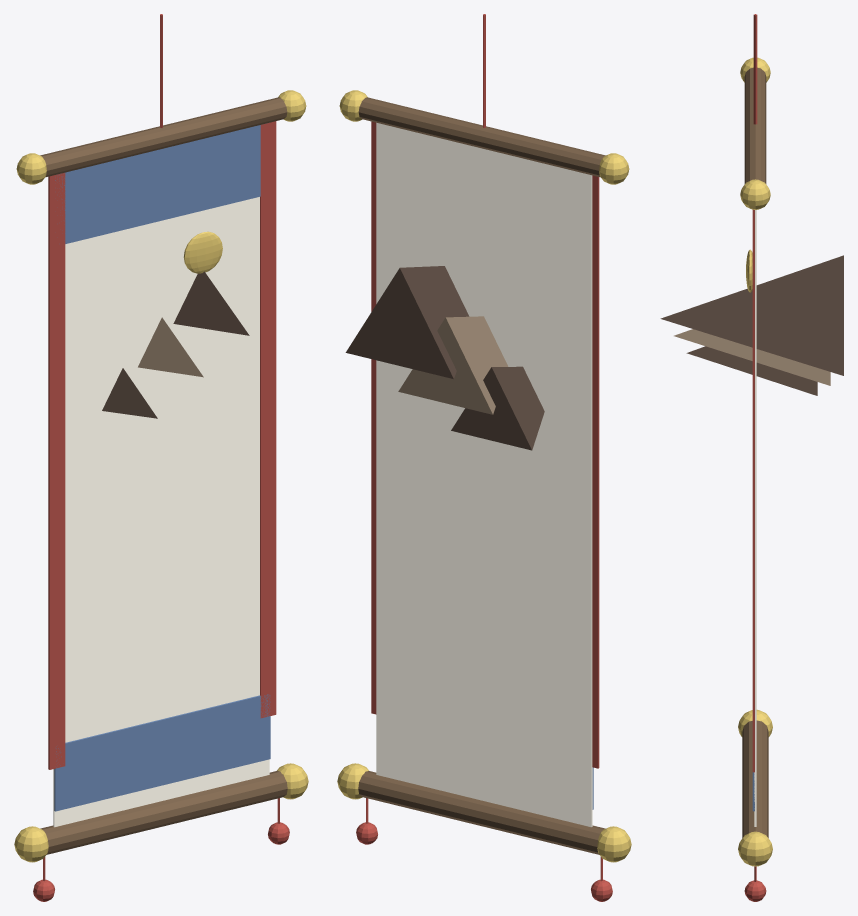
File: scroll_holder.glb
3 views of the same model, side by side, from view 1: azimuth 30°, elevation 25°; view 2: azimuth 150°, elevation 25°; view 3: azimuth 270°, elevation 25° (orthographic). The views are drawn at different scales.
Parts seen in each view (by area): view 1: scroll_holder; view 2: scroll_holder; view 3: scroll_holder.
Part boxes in pixels (x1,y1,x2,y2): scroll_holder: [14, 14, 308, 901]; scroll_holder: [337, 14, 631, 901]; scroll_holder: [660, 14, 843, 901].
Size of the model in its own units: 0.74 by 2.09 by 0.42.
